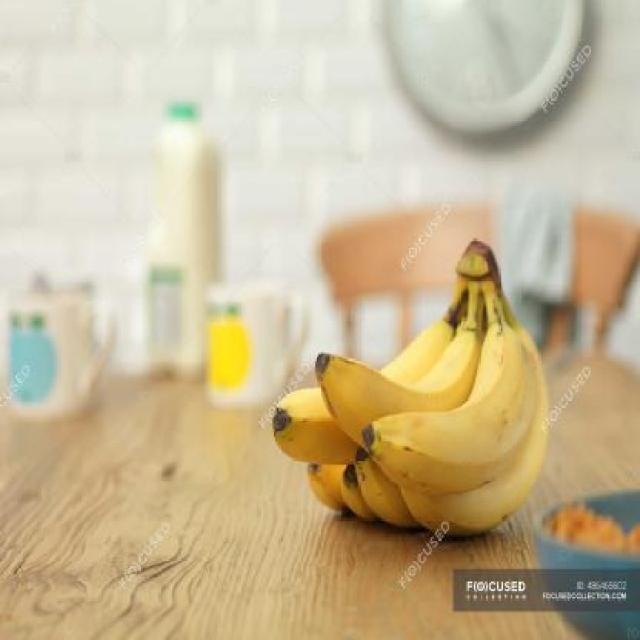banana: (312, 318, 483, 449), (377, 331, 520, 468)
